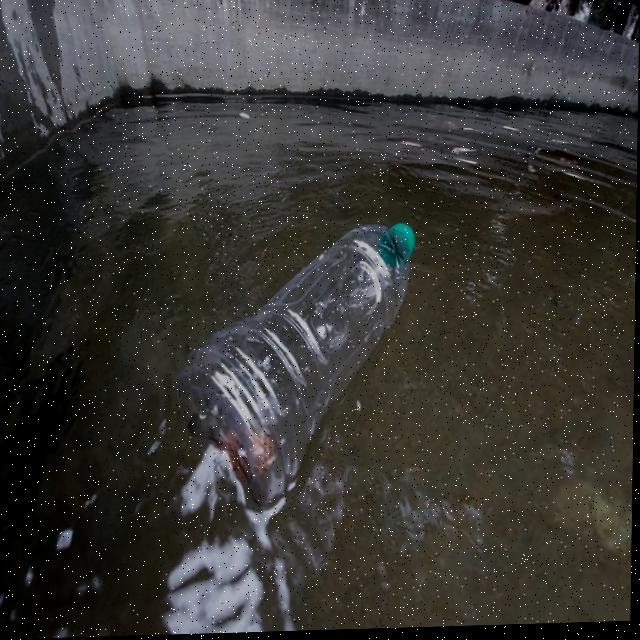waterbottle: (178, 208, 428, 493)
